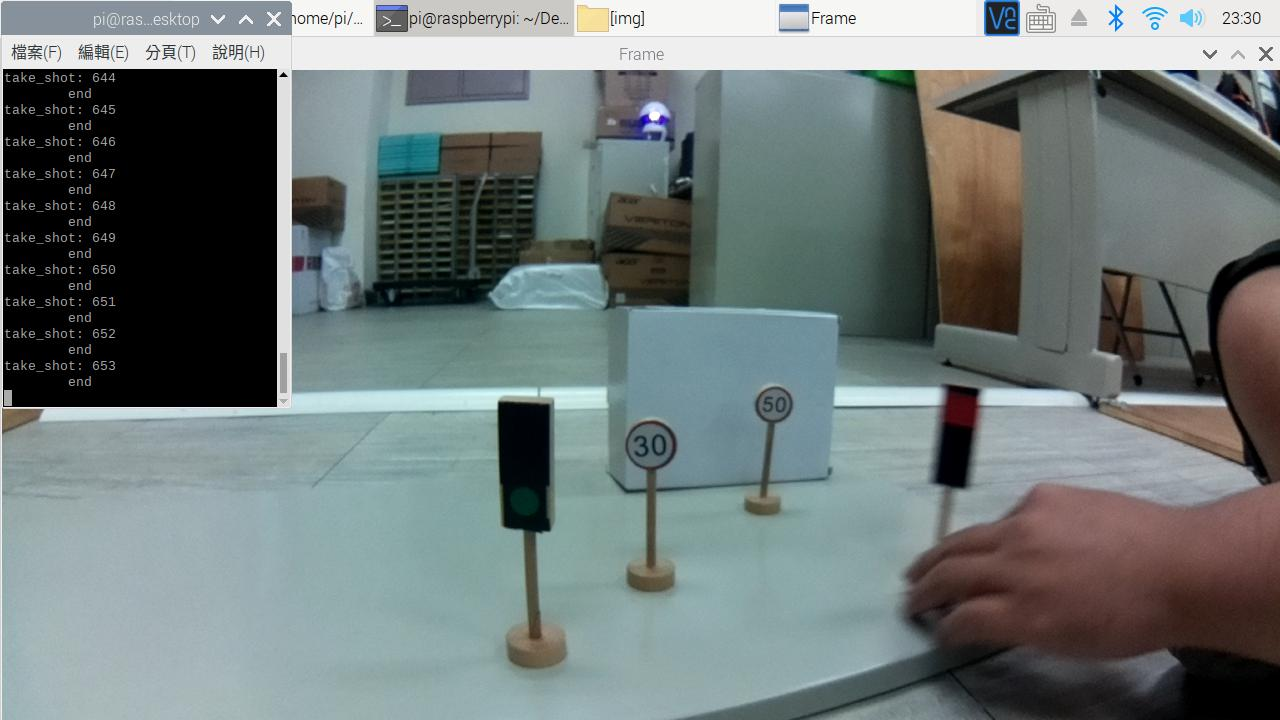Green: (482, 382, 570, 543)
Red: (924, 383, 990, 492)
Speed30: (625, 414, 681, 475)
Speed50: (750, 377, 801, 439)
